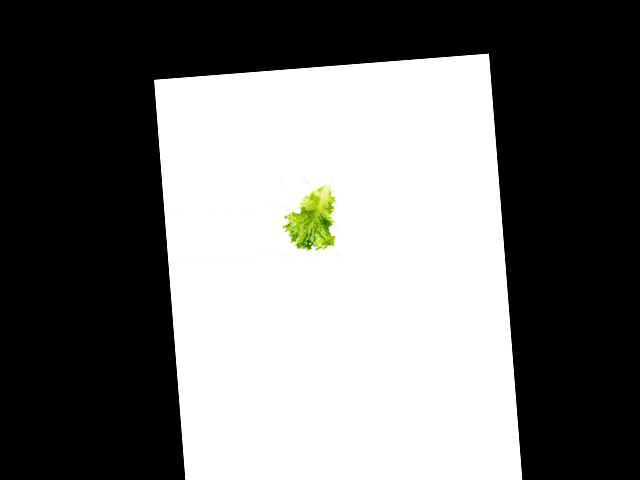lettuce: (280, 183, 336, 252)
